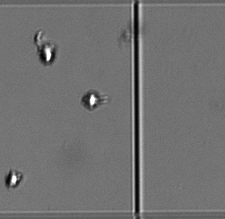Living Cell: (80, 87, 102, 112), (37, 40, 57, 66), (3, 168, 25, 190)
